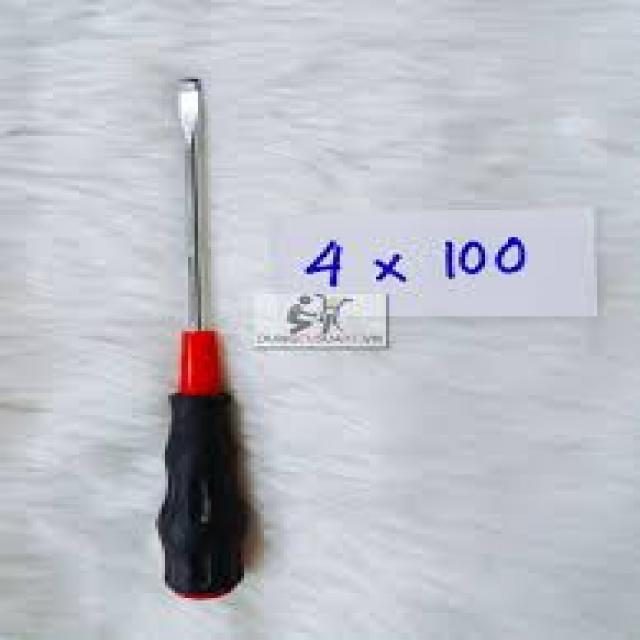screwdriver: (150, 76, 252, 604)
